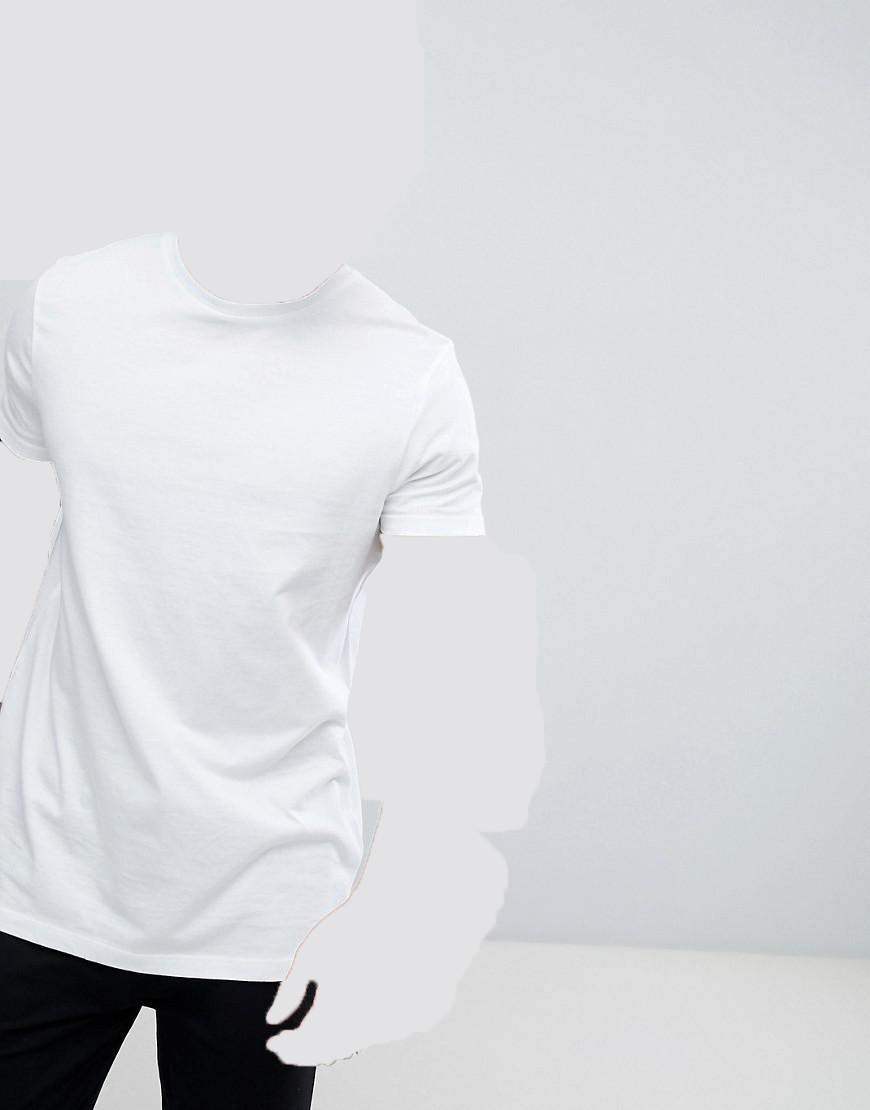teeshirt: (1, 234, 496, 1007)
